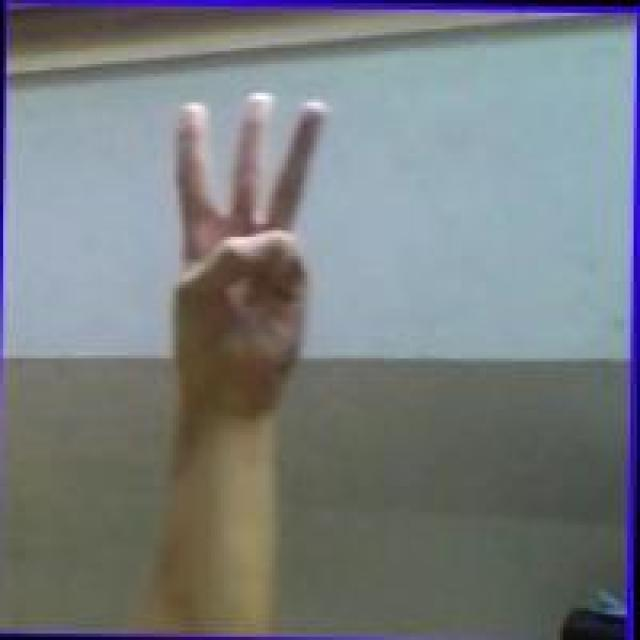W: (160, 86, 336, 406)
